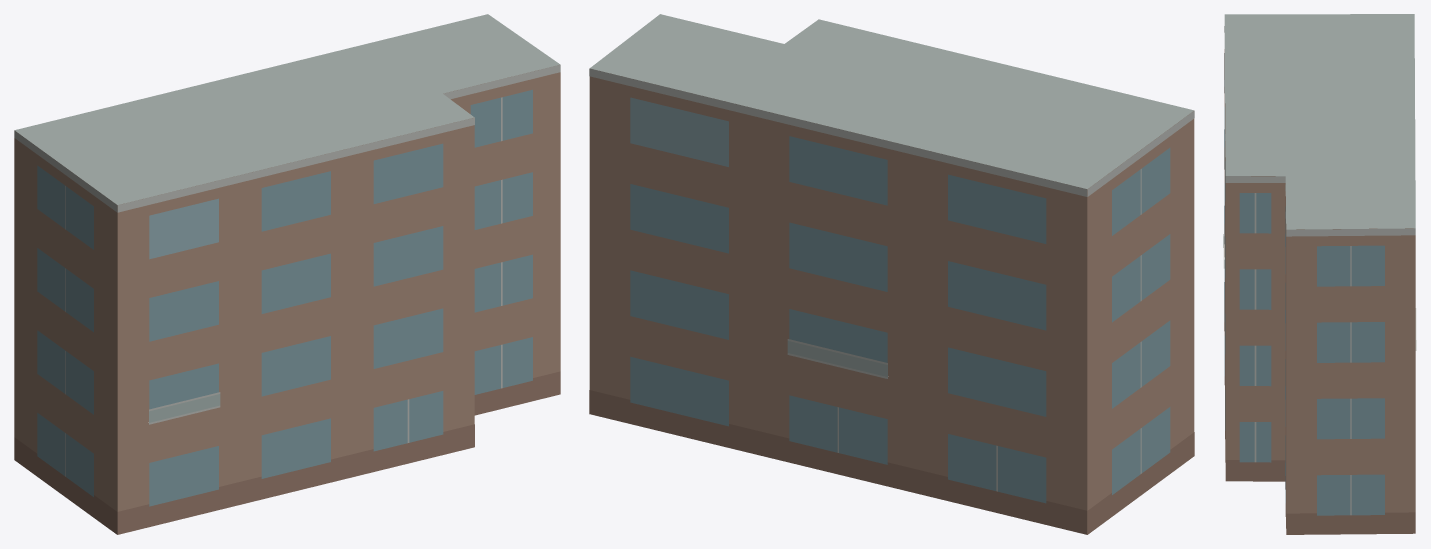
Rendered from survey-upis-32603573.glb.
The picture shows the model from 3 angles, left to right: view 1: azimuth 30°, elevation 25°; view 2: azimuth 150°, elevation 25°; view 3: azimuth 270°, elevation 25°; orthographic projection. The views are drawn at different scales.
Visible parts, largest first — view 1: survey-upis-32603573.tmp; view 2: survey-upis-32603573.tmp; view 3: survey-upis-32603573.tmp.
Boxes of the visible parts, left/top/right/bottom form: survey-upis-32603573.tmp: left=14, top=14, right=560, bottom=534; survey-upis-32603573.tmp: left=589, top=14, right=1194, bottom=534; survey-upis-32603573.tmp: left=1223, top=14, right=1416, bottom=534.
Bounding box in the file's own units: 16.13 × 10.65 × 6.11.
